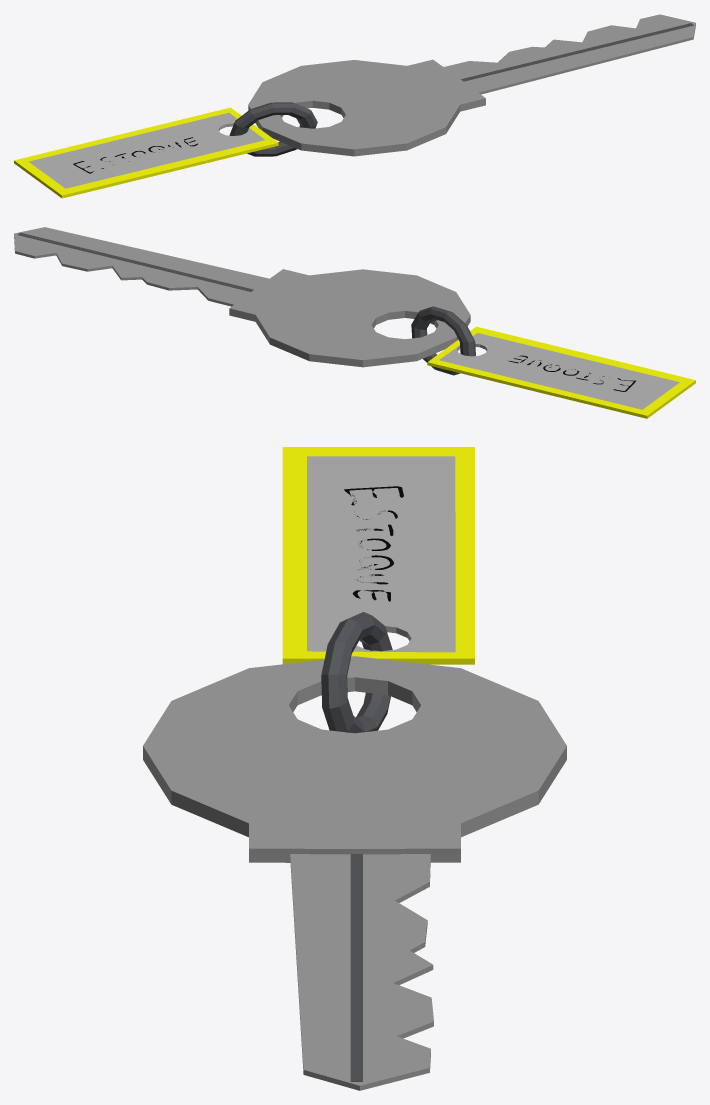
File: Chave.fbx
3 views of the same model, one above another, from view 1: azimuth 30°, elevation 25°; view 2: azimuth 150°, elevation 25°; view 3: azimuth 270°, elevation 25° (orthographic). The views are drawn at different scales.
Parts seen in each view (by area): view 1: Chave; view 2: Chave; view 3: Chave.
Part boxes in pixels (x1=…): Chave: x1=14, y1=14, x2=695, y2=198; Chave: x1=14, y1=227, x2=695, y2=418; Chave: x1=143, y1=447, x2=566, y2=1090.
Bounding box in the file's own units: 574 × 47.76 × 161.
